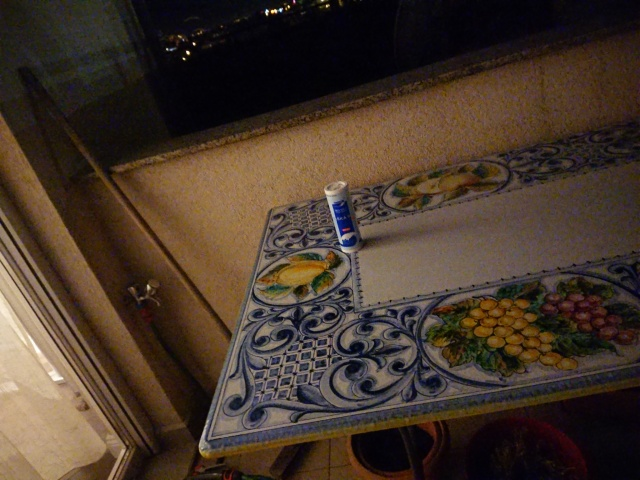Solana Pag Fine Sea Salt 250g: (321, 178, 366, 256)
